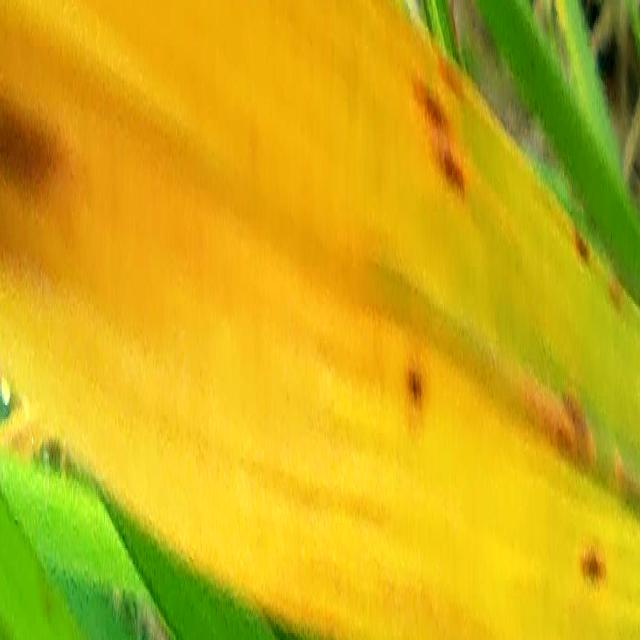NBS: (411, 74, 450, 131), (433, 42, 464, 102), (433, 134, 464, 186), (406, 369, 427, 413), (580, 548, 607, 581)
